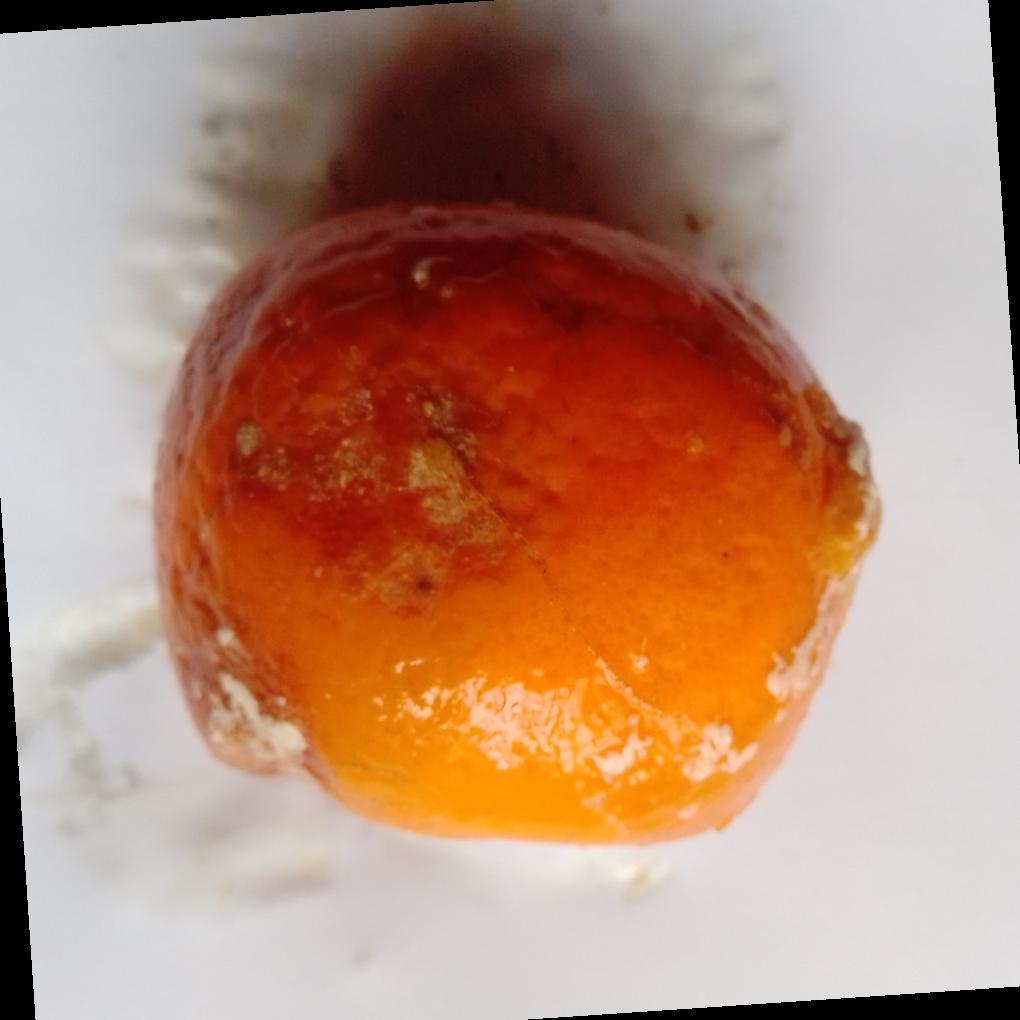FreshOrange: (150, 200, 884, 852)
